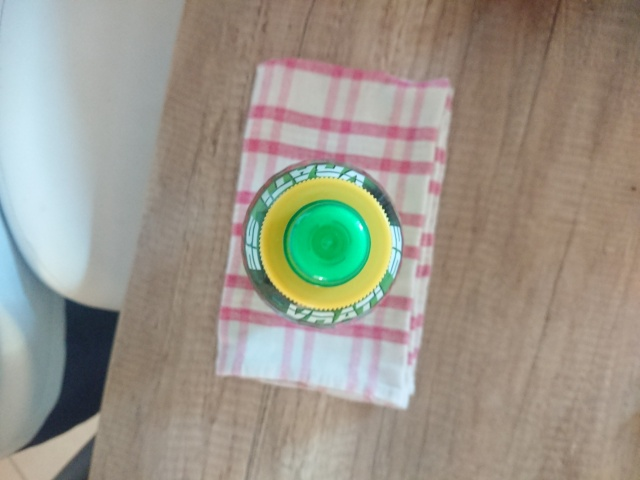Vindi Iso Sport Lemon-Grapefruit 500mL: (236, 155, 408, 331)
